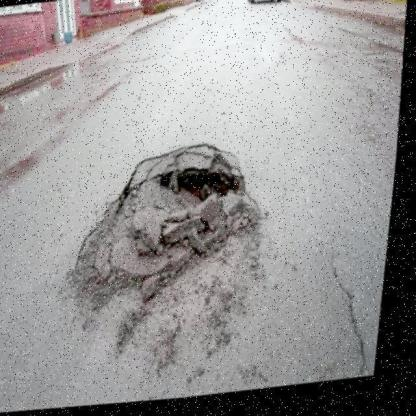pothole: (82, 135, 279, 304)
